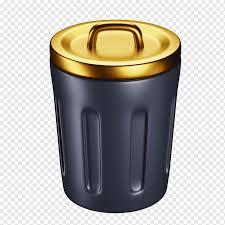metal: (48, 18, 184, 216)
